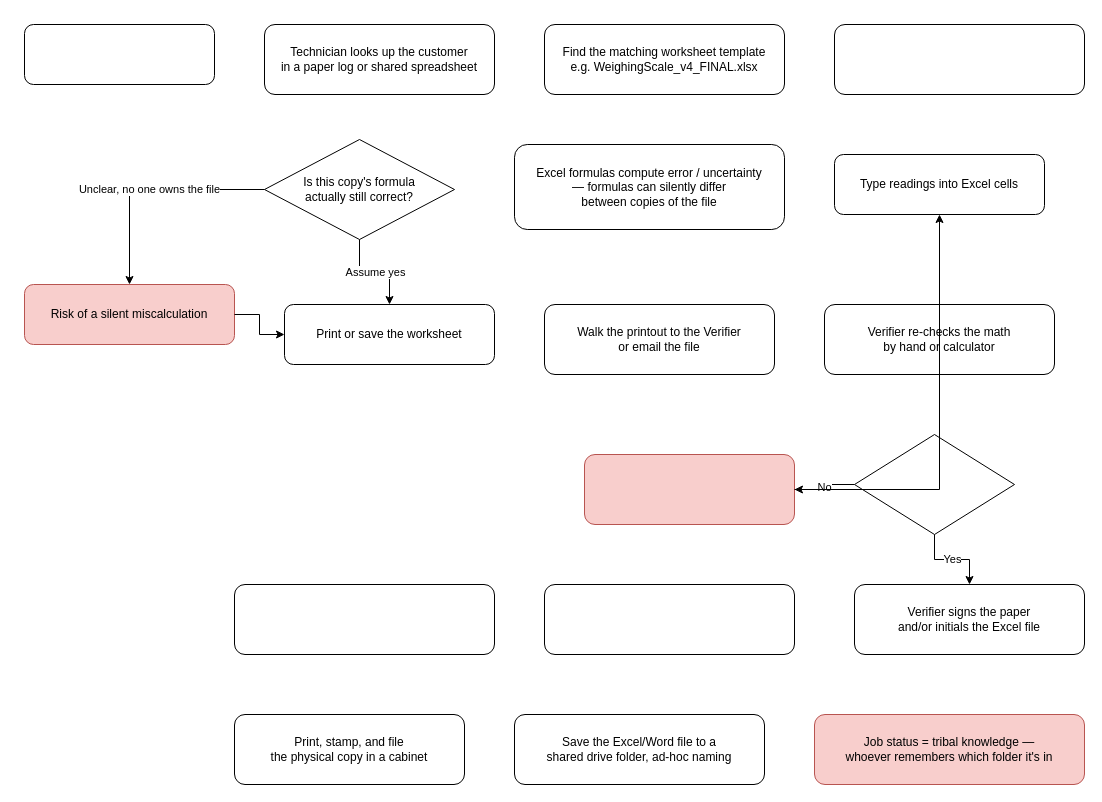
Image size: 1102x802. Some labels were removed from this diagram. Here are the shapes that lost their labels. From the top down, the centre of each, then its label:
At point 119,54: "Equipment arrives at the lab".
At point 959,59: "Manually copy the standard's certificate values from a binder or another sheet".
At point 689,489: "Red-pen comments, hand back to technician".
At point 934,484: "Correct?".
At point 364,619: "Manually paste in a QR code image generated from a separate online tool".
At point 669,619: "Someone manually builds the Certificate in a Word/Excel template".
